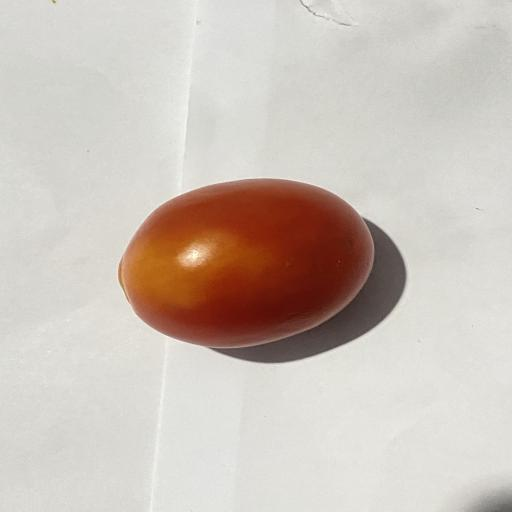ripe: (119, 179, 374, 348)
